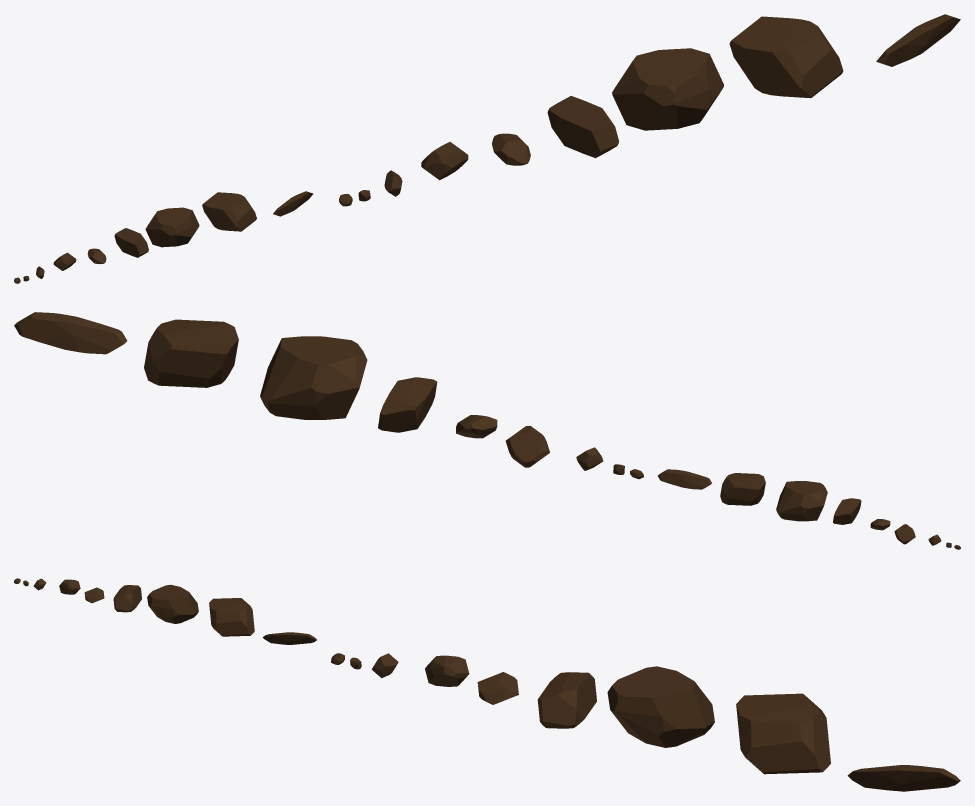
Rendered from MO_stones.fbx.
3 views of the same model, one above another, from view 1: azimuth 30°, elevation 25°; view 2: azimuth 150°, elevation 25°; view 3: azimuth 330°, elevation 25° (orthographic). The views are drawn at different scales.
Visible parts, largest first — view 1: Rock.005, Rock.004, Rock.007, Rock.006, Rock.011, Rock.010, Rock.008, Rock.009, Rock.013; view 2: Rock.005, Rock.004, Rock.006, Rock.007, Rock.011, Rock.010, Rock.008, Rock.009, Rock.012, Rock.013; view 3: Rock.004, Rock.005, Rock.007, Rock.006, Rock.010, Rock.011, Rock.008, Rock.009, Rock.013, Rock.012.
Part boxes in pixels (left/top/right/bottom): Rock.005: left=612, top=48, right=723, bottom=130; Rock.004: left=729, top=16, right=843, bottom=98; Rock.007: left=547, top=96, right=618, bottom=158; Rock.006: left=876, top=14, right=960, bottom=66; Rock.011: left=145, top=207, right=199, bottom=247; Rock.010: left=202, top=192, right=256, bottom=231; Rock.008: left=421, top=142, right=468, bottom=180; Rock.009: left=492, top=133, right=530, bottom=165; Rock.013: left=114, top=228, right=148, bottom=257; Rock.005: left=260, top=336, right=367, bottom=419; Rock.004: left=144, top=319, right=238, bottom=387; Rock.006: left=14, top=312, right=127, bottom=354; Rock.007: left=378, top=377, right=437, bottom=432; Rock.011: left=776, top=481, right=827, bottom=521; Rock.010: left=720, top=473, right=765, bottom=505; Rock.008: left=505, top=426, right=549, bottom=467; Rock.009: left=456, top=415, right=497, bottom=438; Rock.012: left=657, top=469, right=711, bottom=489; Rock.013: left=833, top=498, right=861, bottom=524; Rock.004: left=736, top=693, right=830, bottom=774; Rock.005: left=607, top=666, right=714, bottom=747; Rock.007: left=537, top=672, right=596, bottom=728; Rock.006: left=847, top=765, right=960, bottom=791; Rock.010: left=209, top=598, right=254, bottom=636; Rock.011: left=147, top=584, right=198, bottom=623; Rock.008: left=425, top=655, right=469, bottom=686; Rock.009: left=477, top=672, right=518, bottom=704; Rock.013: left=113, top=585, right=141, bottom=612; Rock.012: left=263, top=632, right=316, bottom=644.
Size of the model in its own units: 3333 by 206 by 366.
